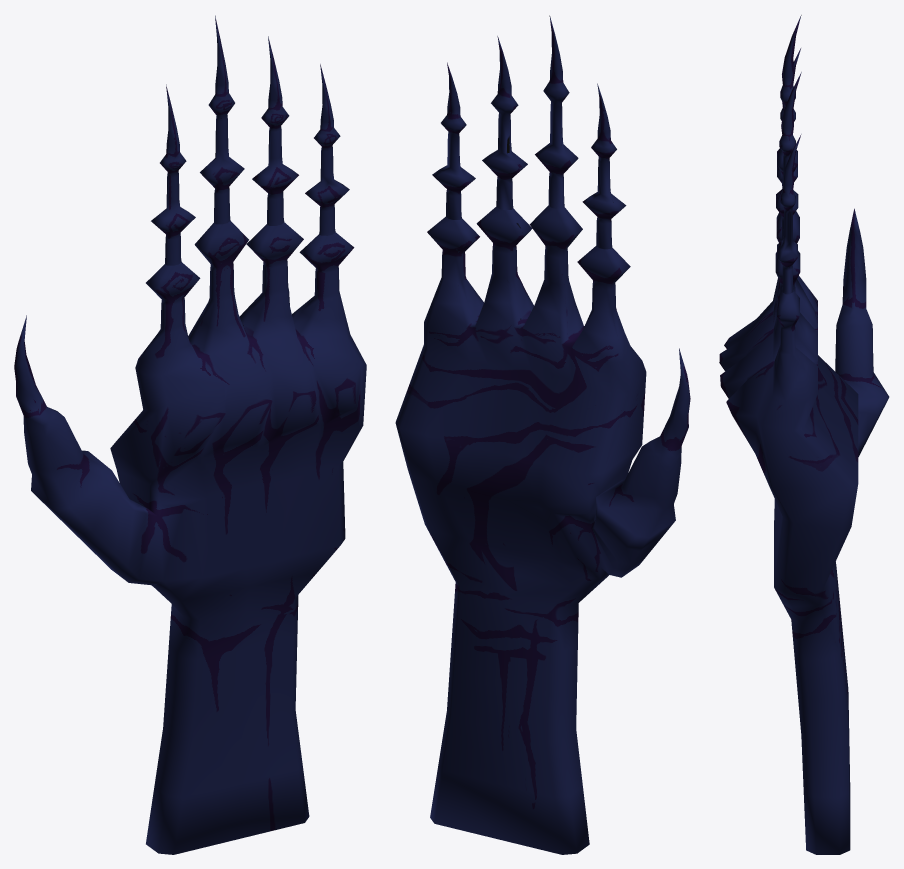
File: soul_hand.fbx
3 views of the same model, side by side, from view 1: azimuth 30°, elevation 25°; view 2: azimuth 150°, elevation 25°; view 3: azimuth 270°, elevation 25° (orthographic). The views are drawn at different scales.
Visible parts, largest first — view 1: soul_hand; view 2: soul_hand; view 3: soul_hand.
Part boxes in pixels (box(x1,y1,x2,y2)): soul_hand: box(14, 15, 366, 854); soul_hand: box(395, 15, 690, 854); soul_hand: box(719, 15, 889, 854).
Size of the model in its own units: 2.96 by 1.5 by 7.7.
Materials: 1 (1 with a texture image).
